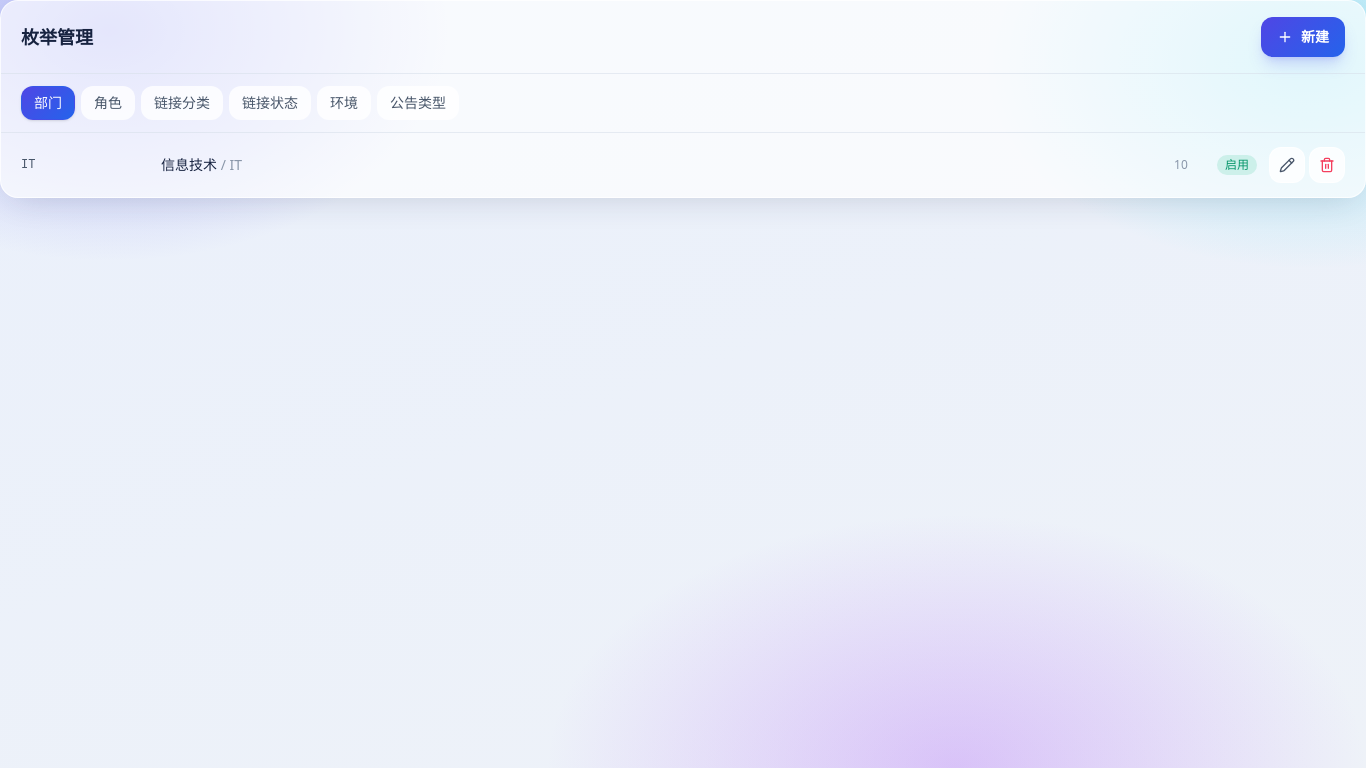
Test: EnumsAdminView › ANNOUNCEMENT_TYPE tab 显示公告类型数据
The image size is (1366, 768).
Click the button "公告类型" at (418, 103), box top-left (377, 86), bottom-right (459, 120)
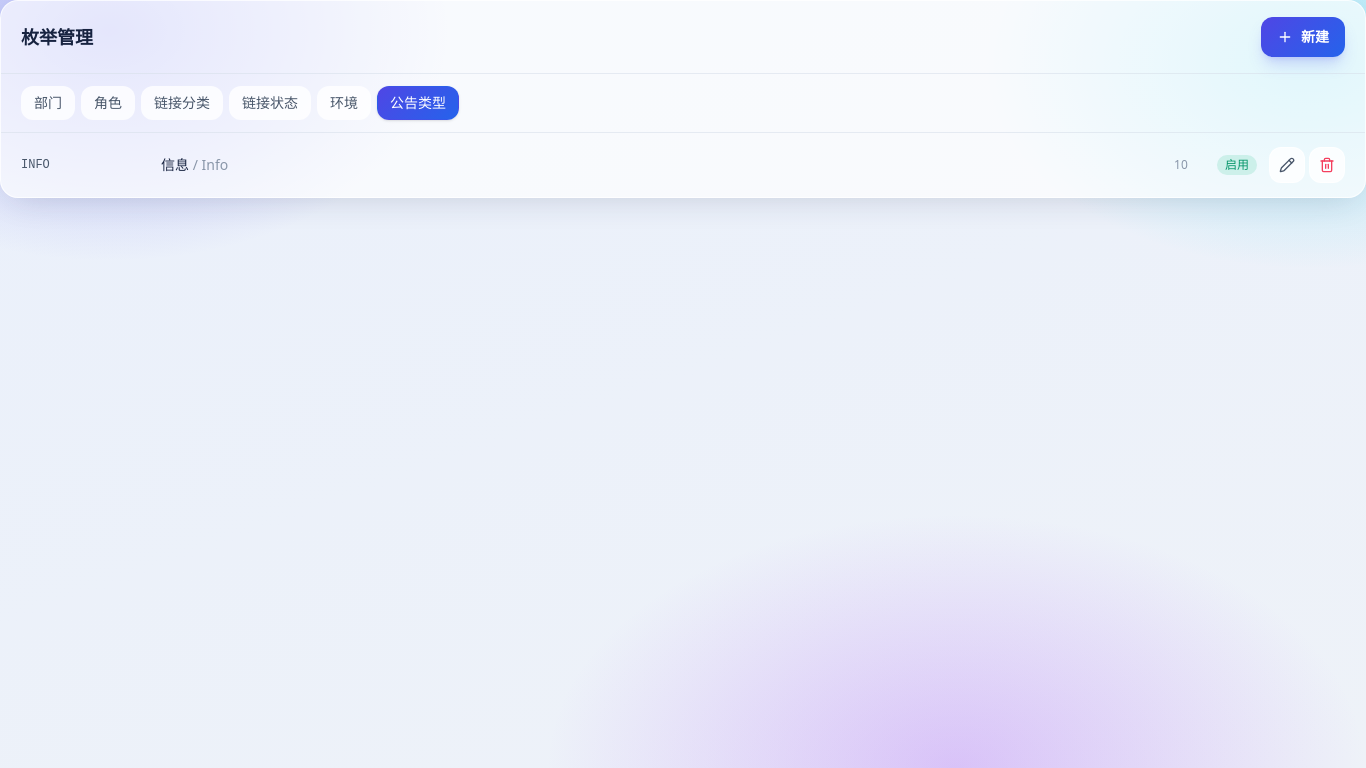
Expected: the text "信息" is shown, top-left (161, 155), bottom-right (193, 174)
Result: the text "INFO" is shown at top-left (21, 158), bottom-right (50, 172)
